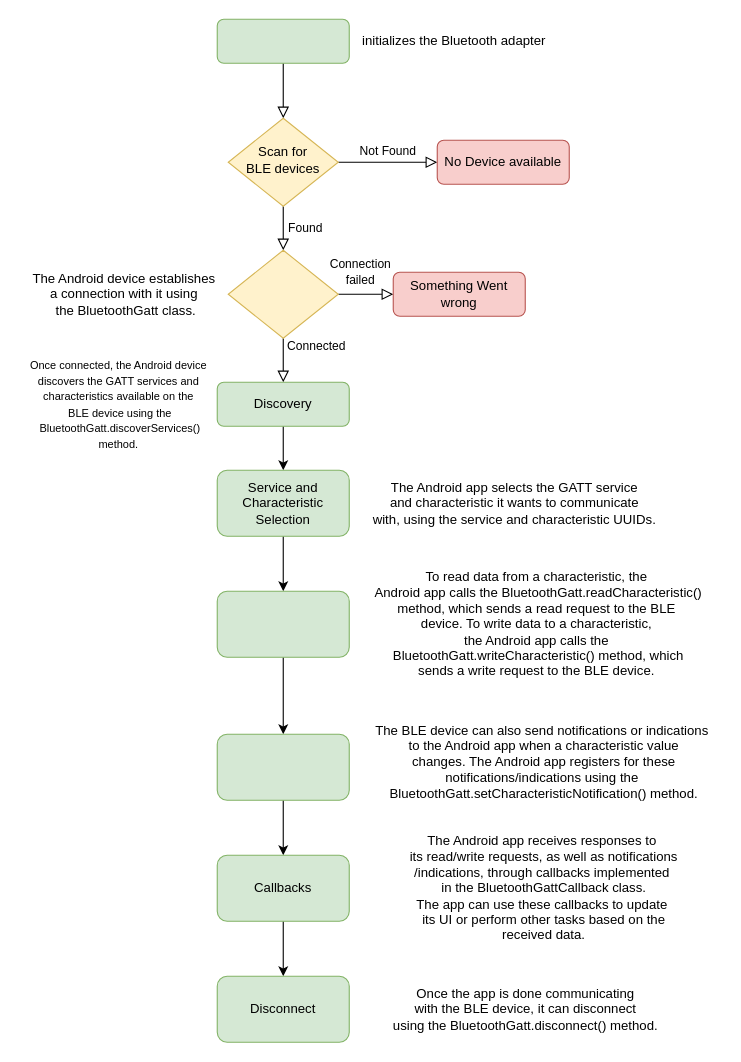
Some shapes in this 741 by 1062 pixel diagram are drawn without their labels. Here are the shapes that lost their labels. From the top down, the centre of each, then its label:
[282,40]: Initialization
[282,293]: Connection
[282,623]: Read/Write Operations
[282,766]: Notifications and Indications
